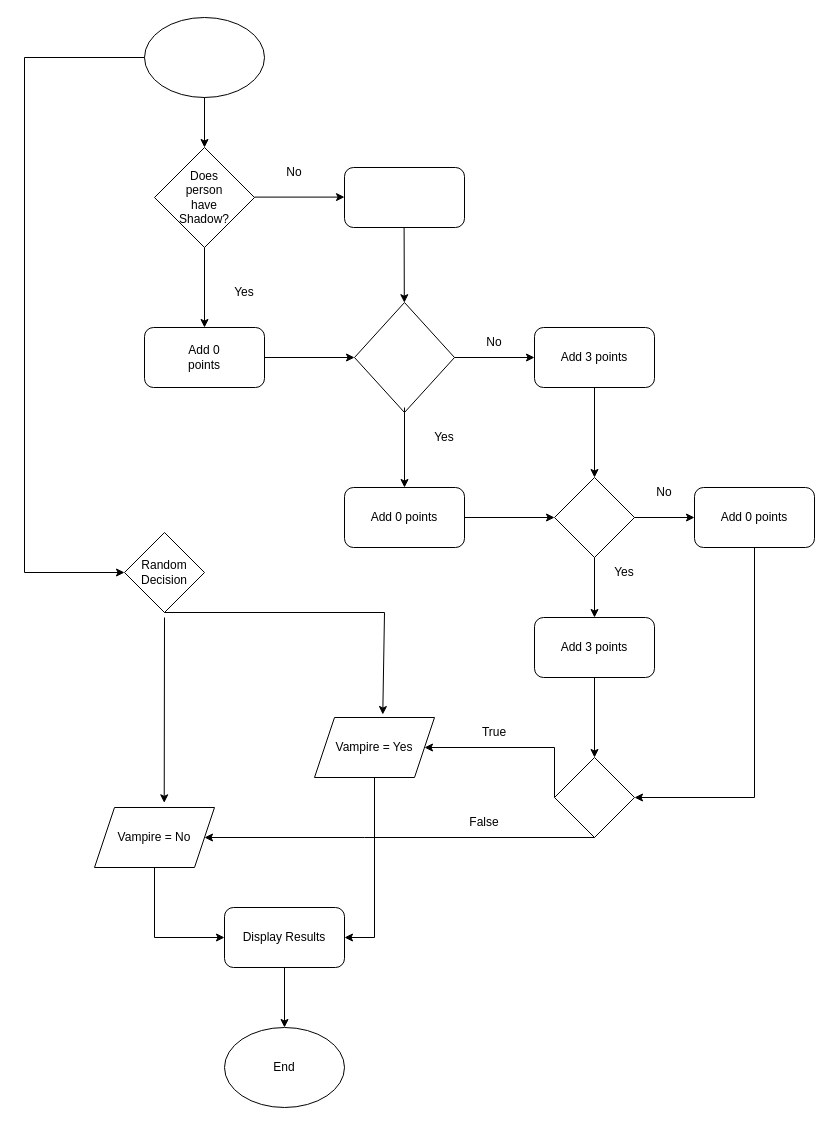
Some shapes in this 832 by 1125 pixel diagram are drawn without their labels. Here are the shapes that lost their labels. From the top down, the box of each, then its label:
(144, 16, 264, 98): Start
(344, 166, 464, 228): Add 4 points
(354, 302, 454, 412): Does person like Garlic?
(554, 476, 634, 558): Is person pale?
(554, 756, 634, 838): If Score > 6
